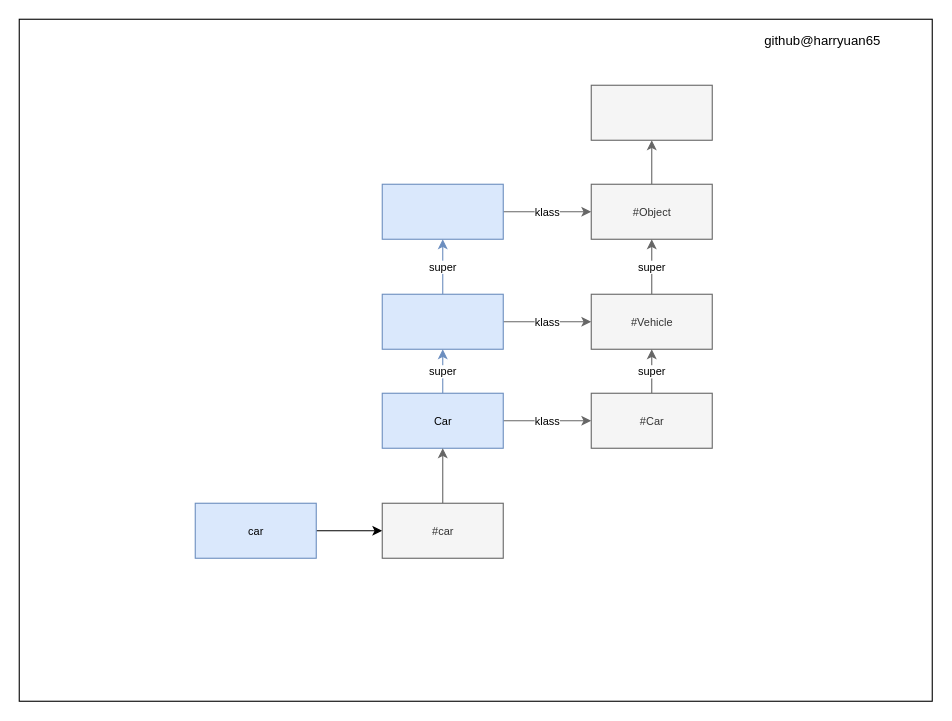
The diagram is 952 pixels wide and 721 high, and some of its shapes have lost their labels. The centre of each missing label's shape, as x and y in pixels:
"Class" belongs at point (651, 112).
"Object" belongs at point (442, 211).
"Vehicle" belongs at point (442, 321).
